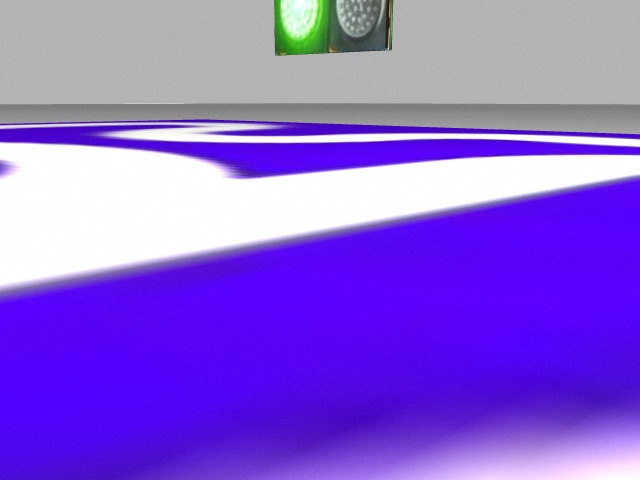green: (274, 1, 331, 52)
